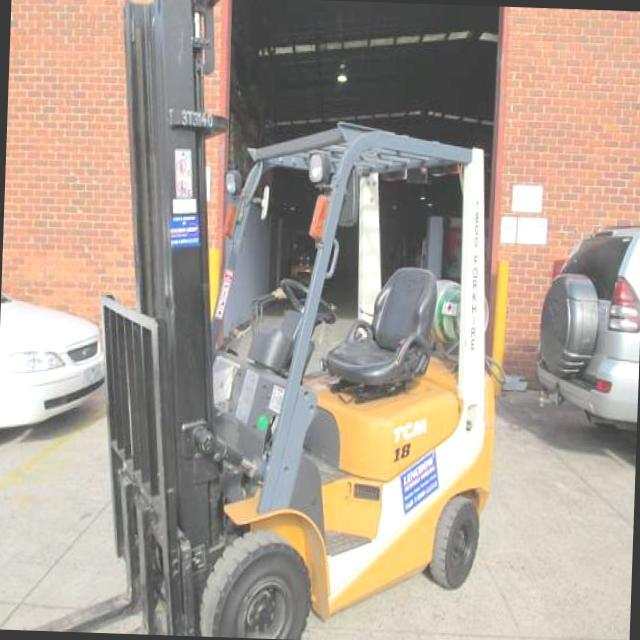forklift: (73, 105, 496, 624)
